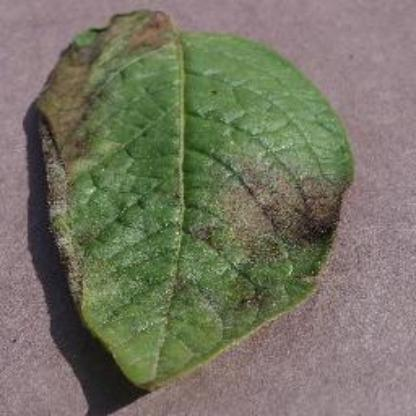Late-Blight: (27, 6, 361, 392)
